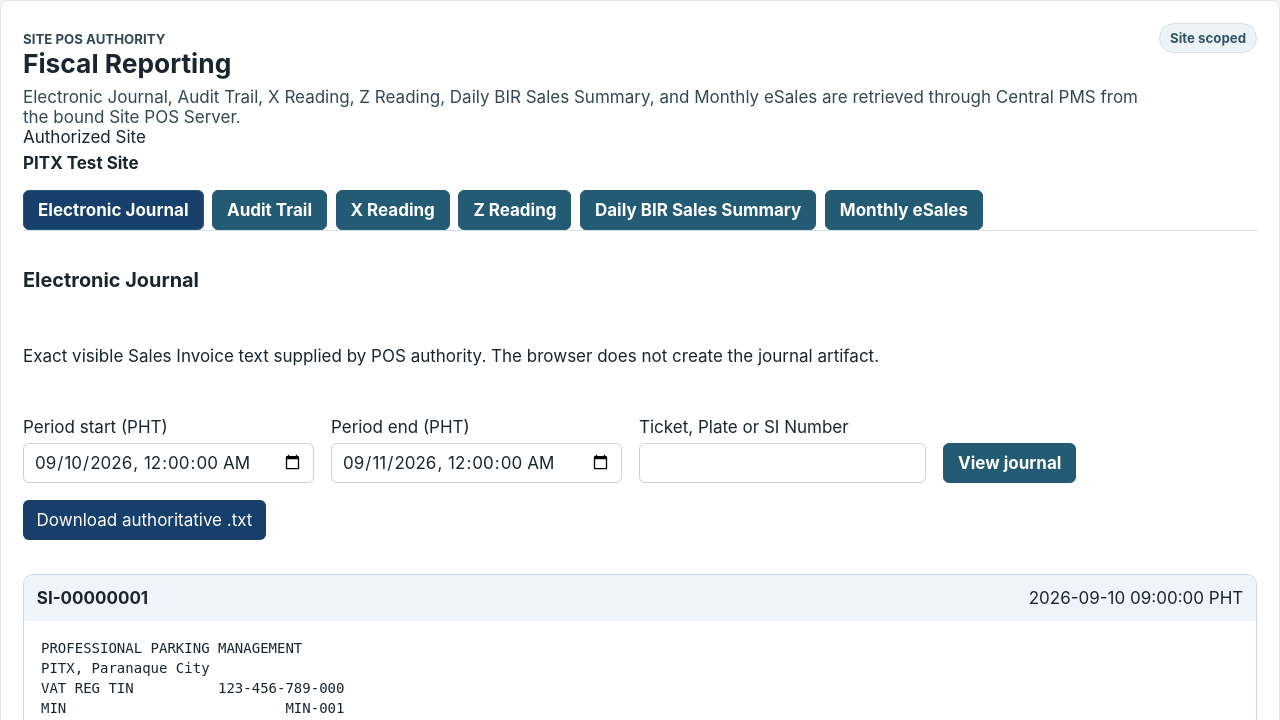
Test: Operator Console fiscal reporting › shows incomplete Monthly eSales source dates as a neutral non-final state
Step 1. Click the tab "Monthly eSales" → (904, 210), box [825, 190, 983, 230]
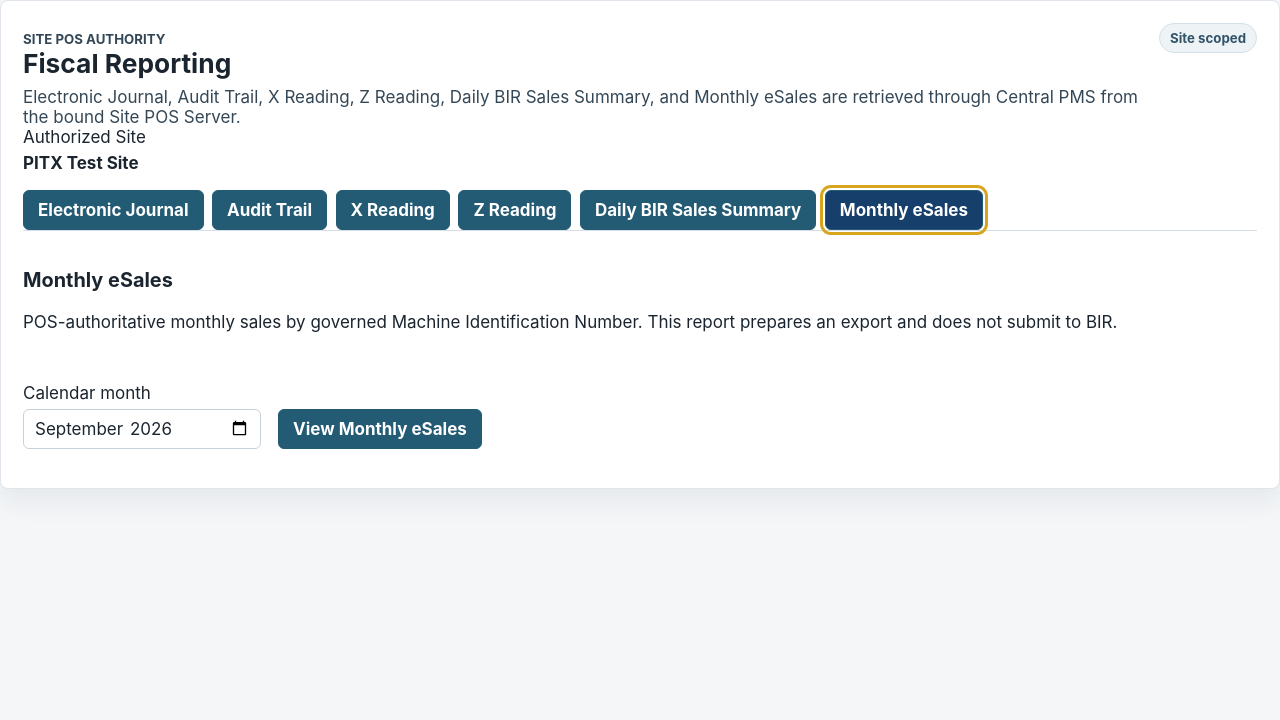
Step 2. Click the button "View Monthly eSales" → (380, 429), box [278, 409, 482, 449]
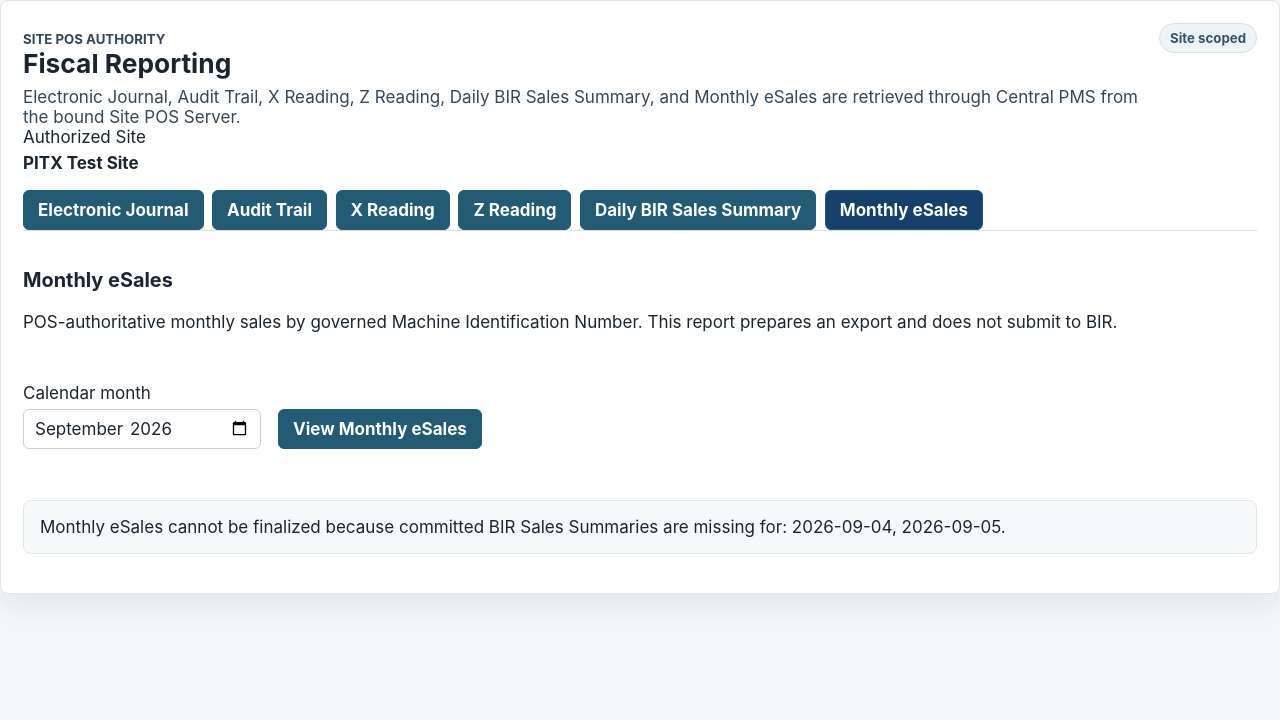
Now the message shows "2026-09-04, 2026-09-05", box [40, 517, 1006, 537]
